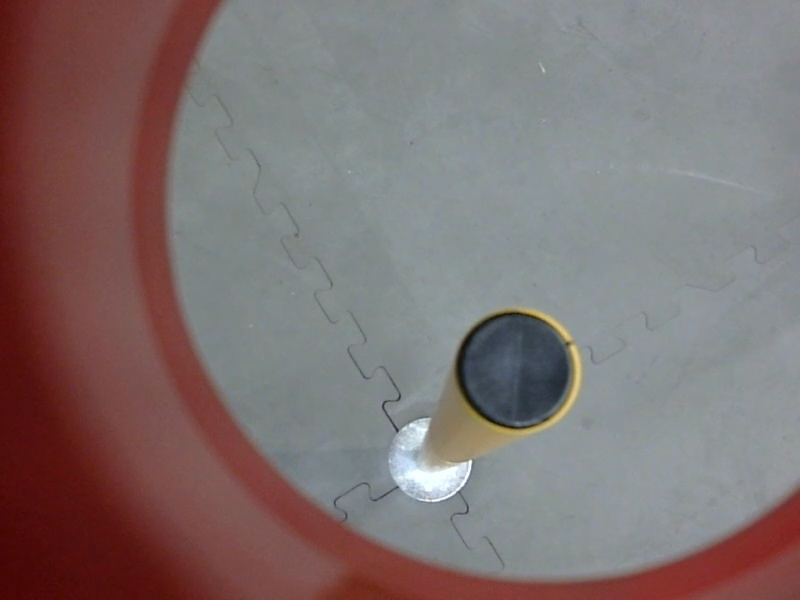tip: (442, 301, 591, 441)
